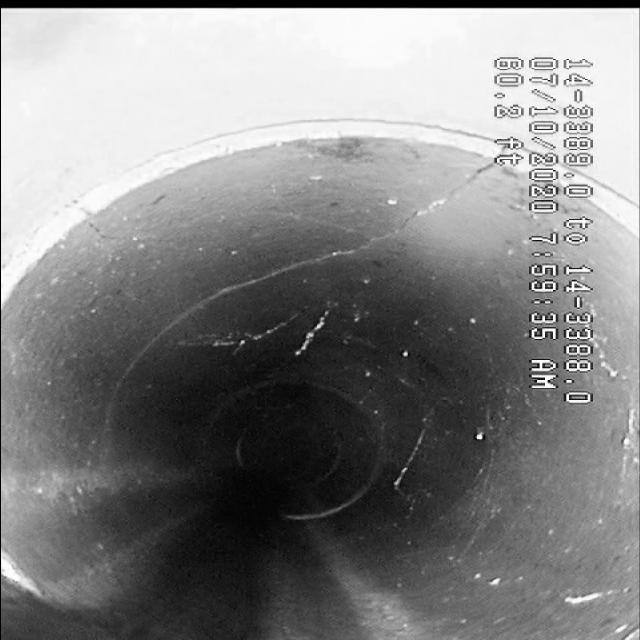Crack: (195, 188, 486, 306)
